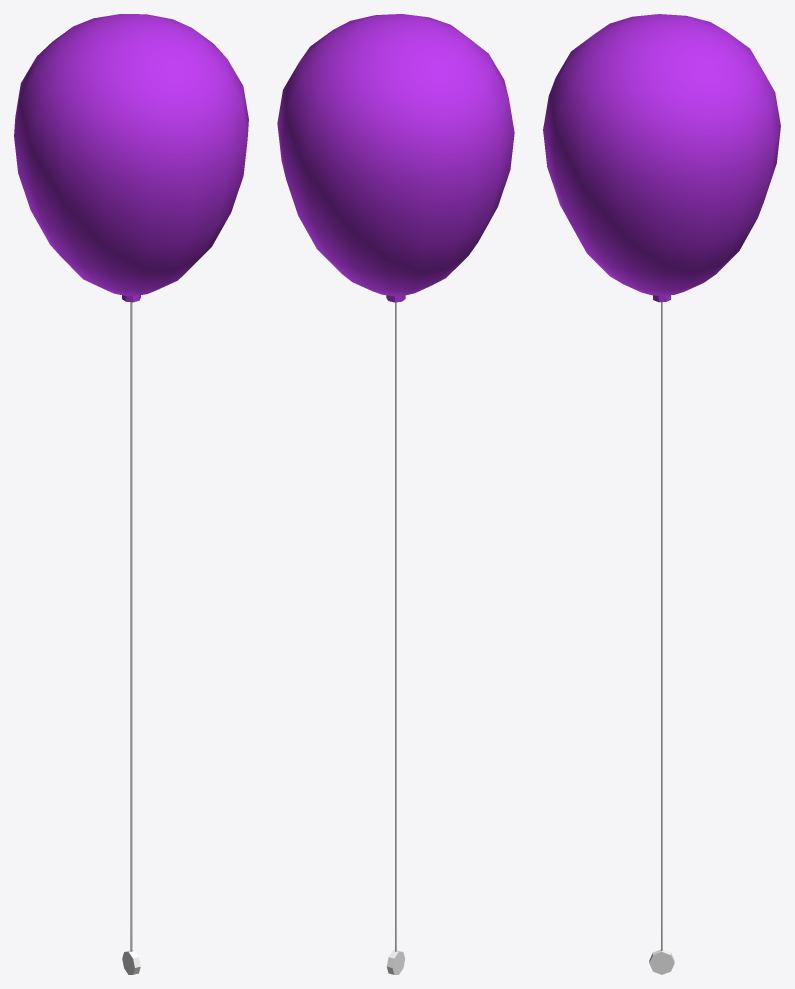
Rendered from BalloonE.fbx.
3 views of the same model, side by side, from view 1: azimuth 30°, elevation 25°; view 2: azimuth 150°, elevation 25°; view 3: azimuth 270°, elevation 25° (orthographic).
Visible parts, largest first — view 1: BalloonE; view 2: BalloonE; view 3: BalloonE.
Boxes of the visible parts, <box> form: BalloonE: <box>14,14,248,974</box>; BalloonE: <box>277,14,514,974</box>; BalloonE: <box>543,14,780,974</box>.
Bounding box in the file's own units: 275 × 1208 × 275.
